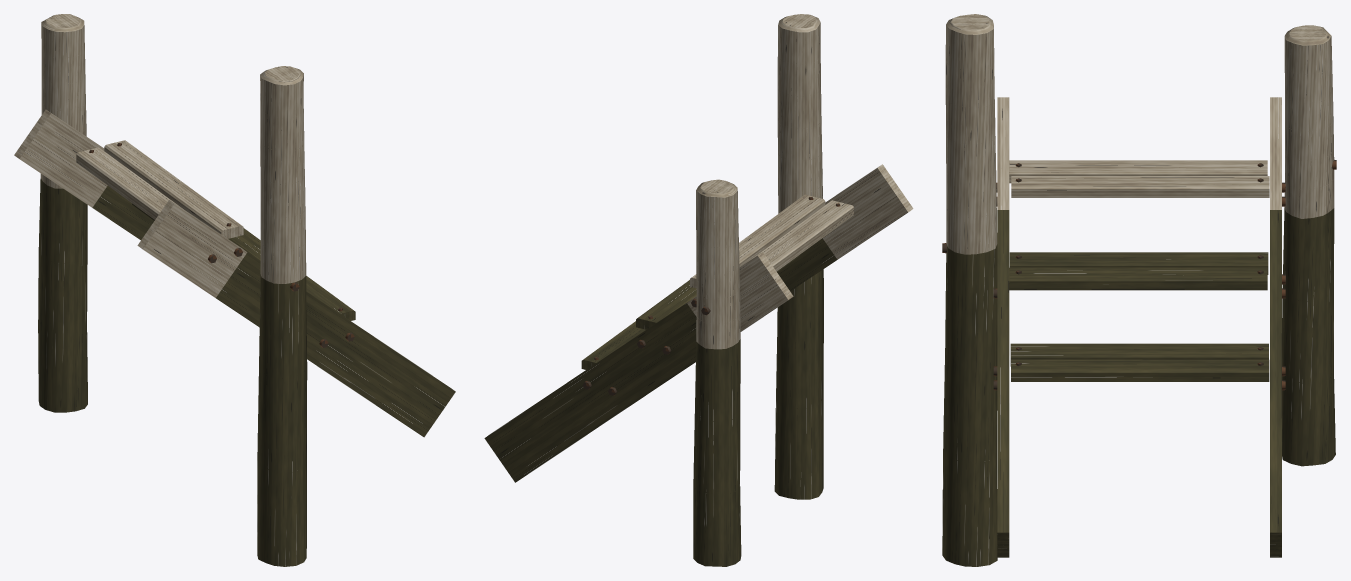
3 renders of one model, left to right at view 1: azimuth 30°, elevation 25°; view 2: azimuth 150°, elevation 25°; view 3: azimuth 270°, elevation 25°, orthographic. The views are drawn at different scales.
Parts seen in each view (by area): view 1: wet, timber; view 2: wet, timber; view 3: wet, timber, iron.
Boxes of the visible parts, bbox=[...] form: wet: bbox=[38, 178, 455, 566]; timber: bbox=[14, 14, 306, 297]; wet: bbox=[484, 238, 837, 566]; timber: bbox=[687, 14, 913, 349]; wet: bbox=[942, 208, 1335, 566]; timber: bbox=[945, 14, 1334, 254]; iron: bbox=[942, 160, 1336, 390].
Bounding box in the file's own units: 1.68 × 2.48 × 1.66.
3 materials, 3 textured.
